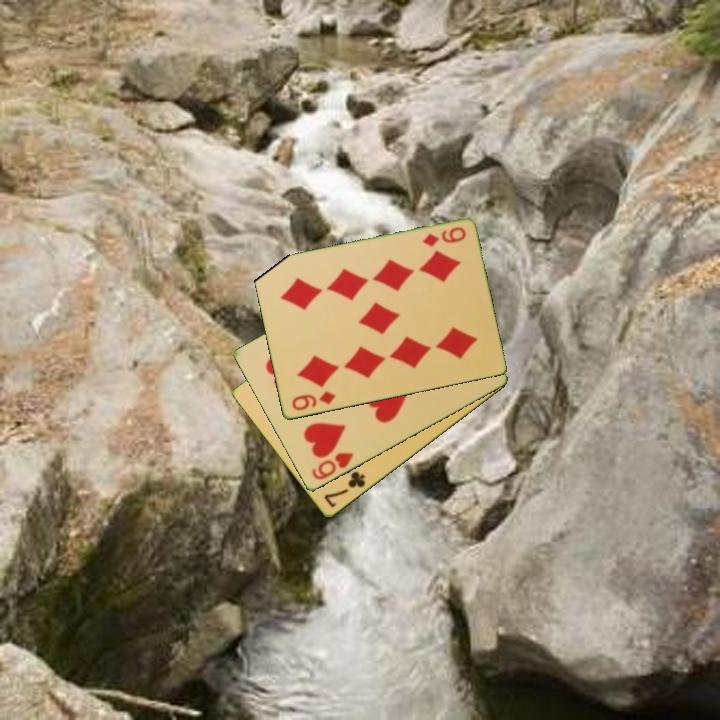6h: (308, 449, 357, 483)
7c: (320, 468, 369, 511)
9d: (419, 223, 469, 250), (288, 388, 338, 414)
